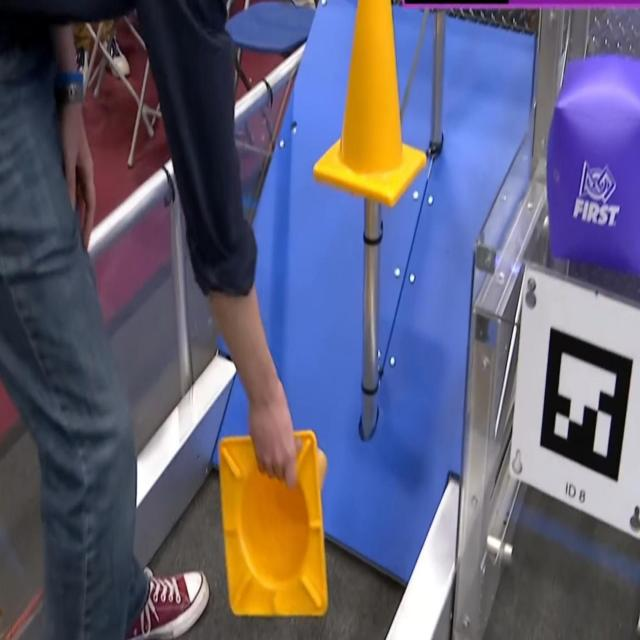frc_cone: (315, 0, 426, 209), (218, 425, 329, 627)
frc_cube: (547, 49, 640, 276)
